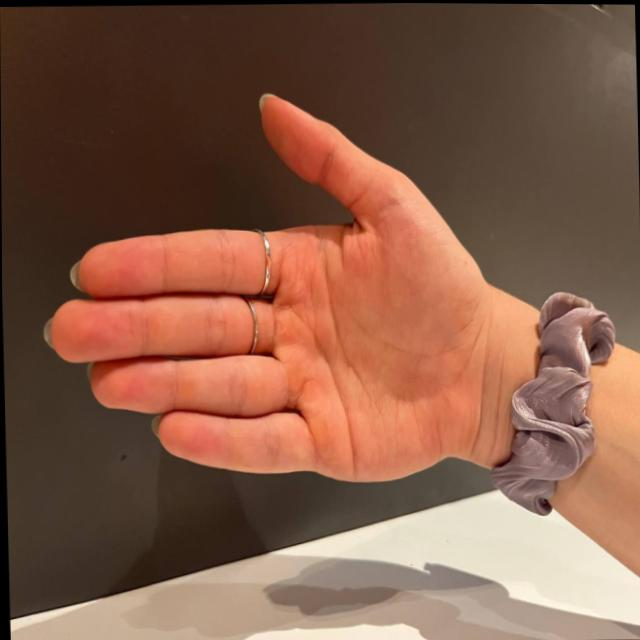v: (29, 61, 493, 506)
